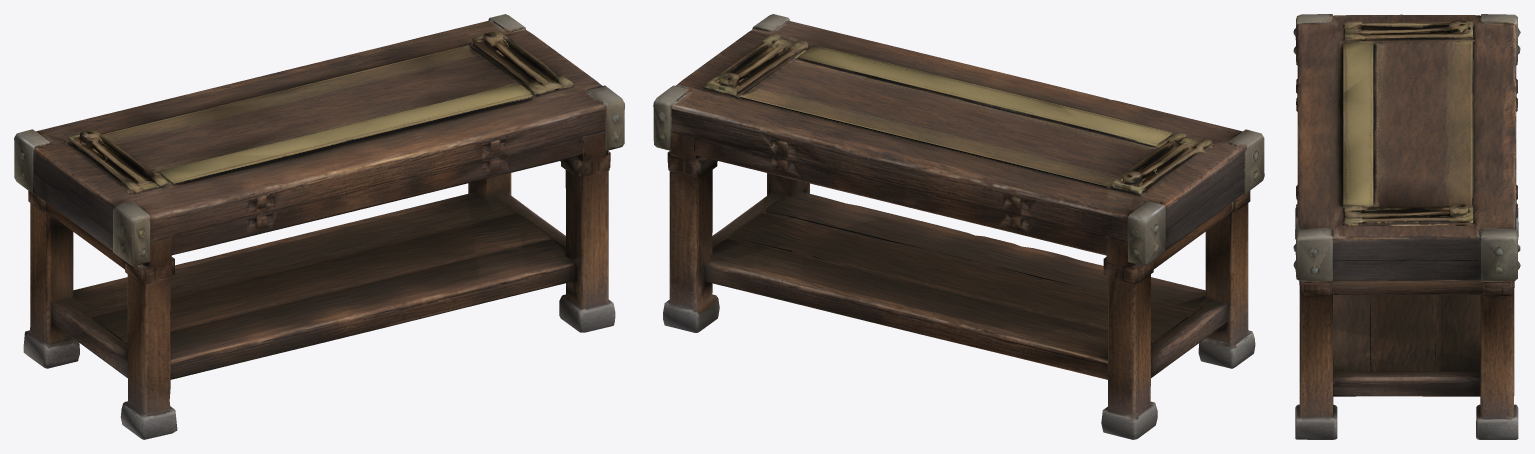
The model's file is SurveyWorkbench_LOD0.fbx.
The picture shows the model from 3 angles, left to right: view 1: azimuth 30°, elevation 25°; view 2: azimuth 150°, elevation 25°; view 3: azimuth 270°, elevation 25°; orthographic projection. The views are drawn at different scales.
Parts seen in each view (by area): view 1: SurveyWorkbench_LOD0; view 2: SurveyWorkbench_LOD0; view 3: SurveyWorkbench_LOD0.
Part boxes in pixels (left/top/right/bottom): SurveyWorkbench_LOD0: left=14, top=14, right=624, bottom=439; SurveyWorkbench_LOD0: left=653, top=14, right=1264, bottom=439; SurveyWorkbench_LOD0: left=1293, top=14, right=1520, bottom=439.
Bounding box in the file's own units: 2 × 0.8994 × 0.8505.
